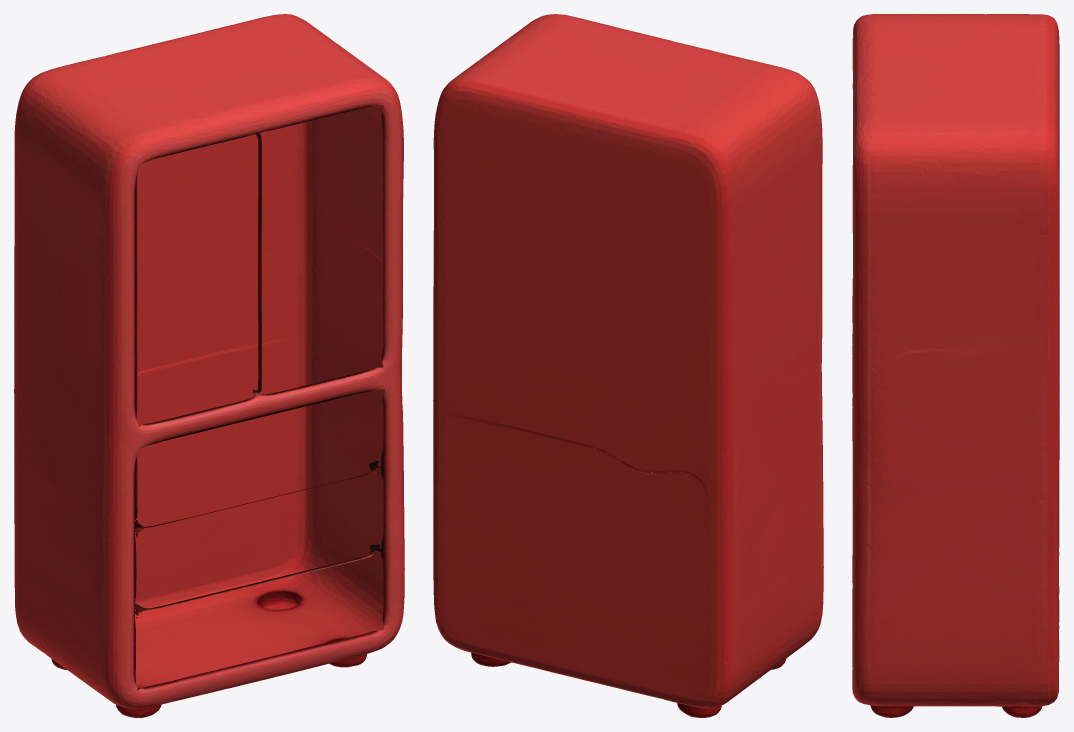
Rendered from body.glb.
3 views of the same model, side by side, from view 1: azimuth 30°, elevation 25°; view 2: azimuth 150°, elevation 25°; view 3: azimuth 270°, elevation 25° (orthographic).
Visible parts, largest first — view 1: source_surface_0; view 2: source_surface_0; view 3: source_surface_0.
Part boxes in pixels (box(x1,y1,x2,y2)): source_surface_0: box(14, 14, 404, 717); source_surface_0: box(433, 14, 823, 717); source_surface_0: box(852, 14, 1059, 717).
Size of the model in its own units: 0.6423 by 1.2 by 0.3821.
Materials: 1 (1 with a texture image).
